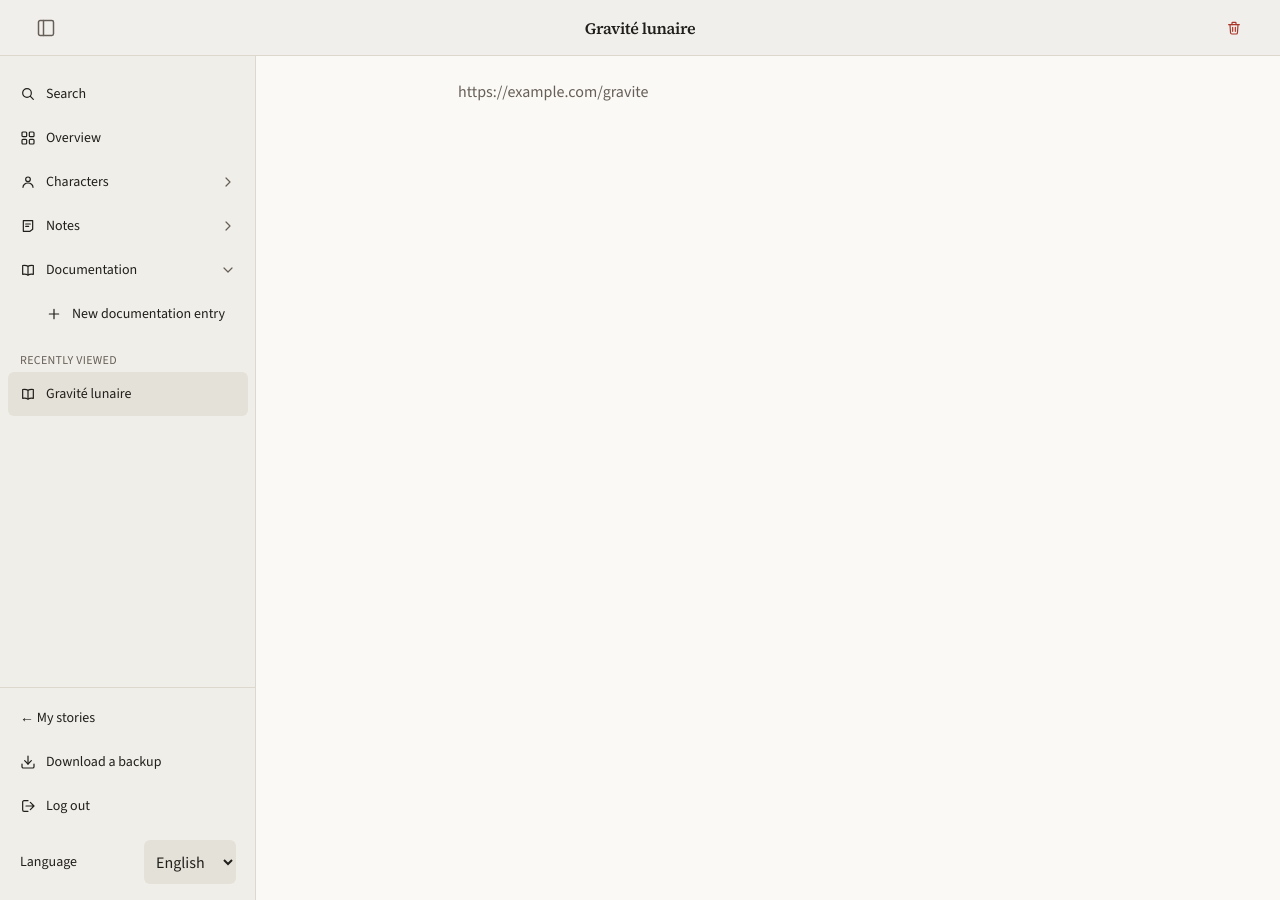
Test: DocumentationEditPage › shows an error message when autosaving fails
This screenshot has width=1280, height=900.
Type " révisée" into the field with test id "story-title". click: (640, 28)
box: [80, 6, 1200, 50]
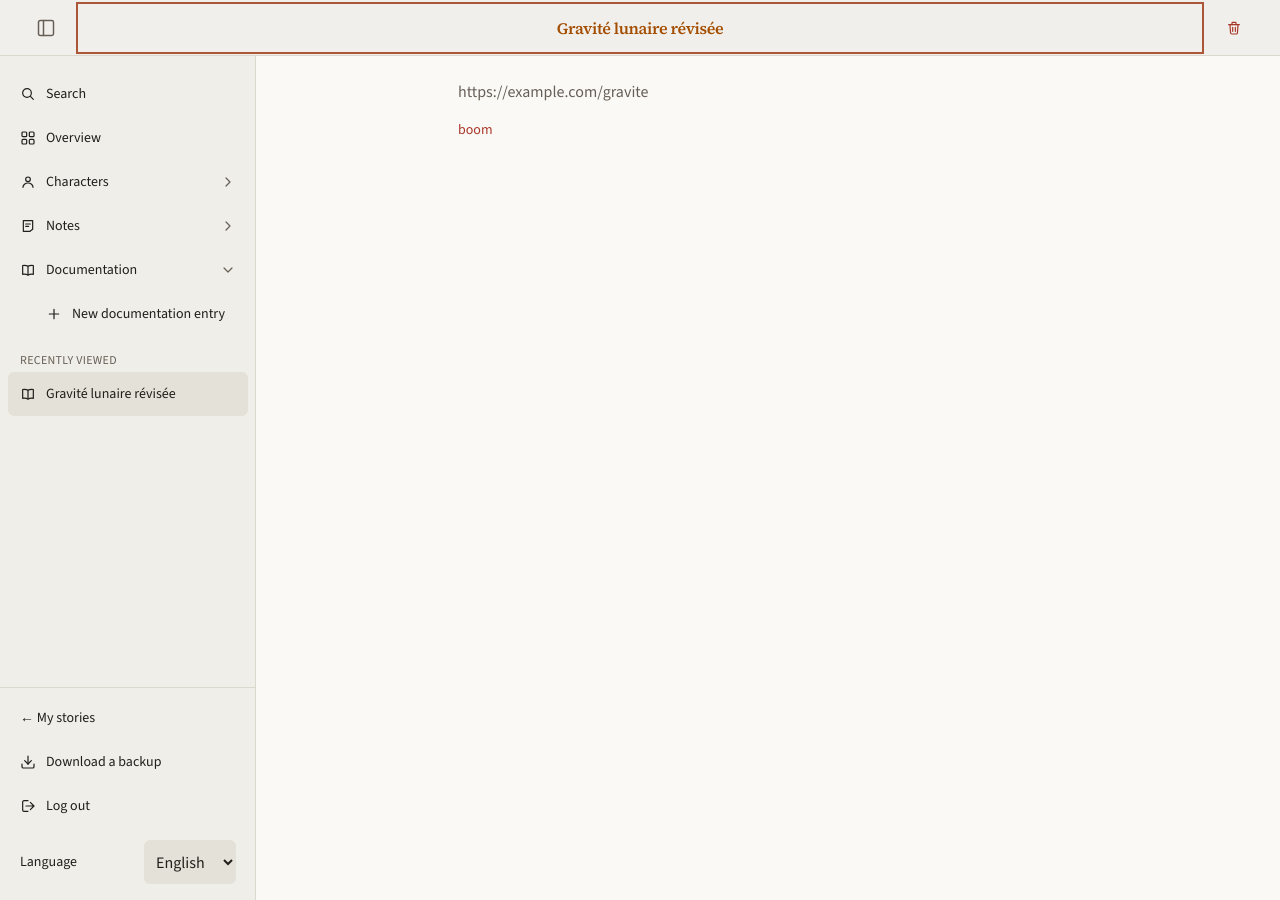
Check: the message reads "boom", box [458, 120, 492, 139]
